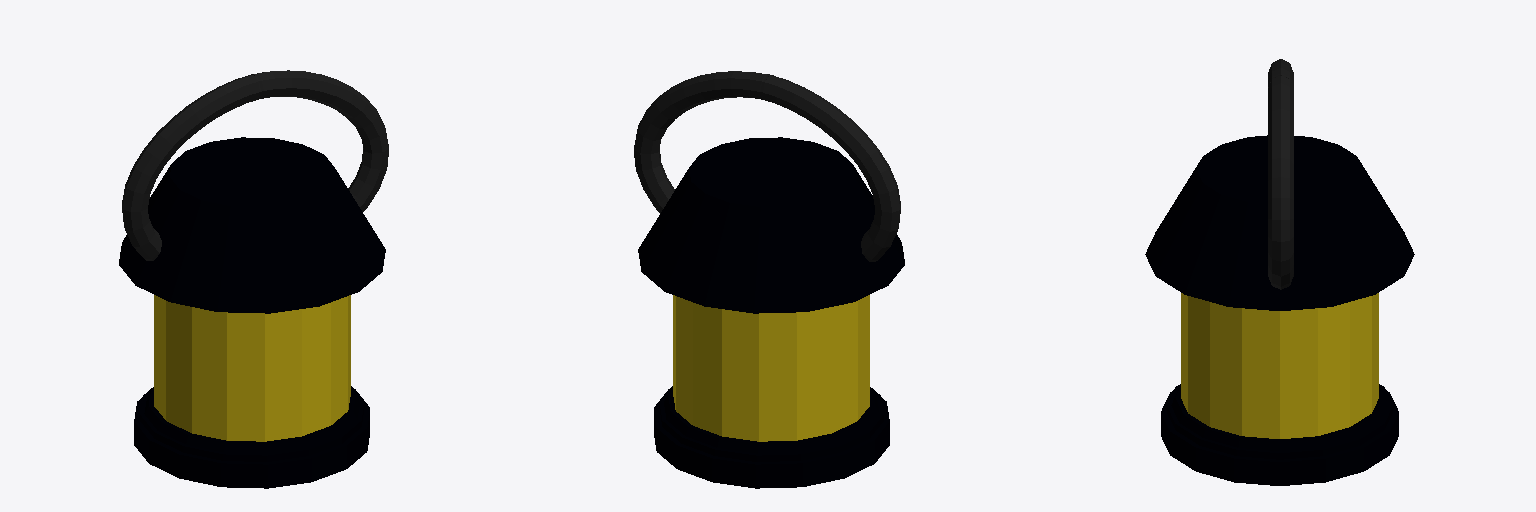
The model's file is lamp1.obj.
3 renders of one model, left to right at view 1: azimuth 30°, elevation 25°; view 2: azimuth 150°, elevation 25°; view 3: azimuth 270°, elevation 25°, orthographic.
Visible parts, largest first — view 1: Cylinder, Cylinder.001; view 2: Cylinder, Cylinder.001; view 3: Cylinder, Cylinder.001.
Part boxes in pixels (left/top/right/bottom): Cylinder: left=119, top=137, right=385, bottom=488; Cylinder.001: left=122, top=70, right=388, bottom=260; Cylinder: left=638, top=137, right=904, bottom=488; Cylinder.001: left=634, top=71, right=900, bottom=261; Cylinder: left=1145, top=135, right=1414, bottom=485; Cylinder.001: left=1268, top=59, right=1293, bottom=289.
Bounding box in the file's own units: 3.09 × 4.04 × 2.71.